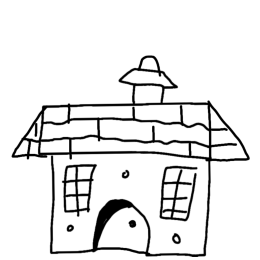bottom_placed_house: (0, 0, 260, 260)
chimney: (118, 43, 185, 114)
closed_window: (156, 164, 202, 225), (57, 160, 100, 214)
door: (87, 193, 156, 257)
roof: (6, 94, 253, 166)
wall: (39, 143, 217, 258)
